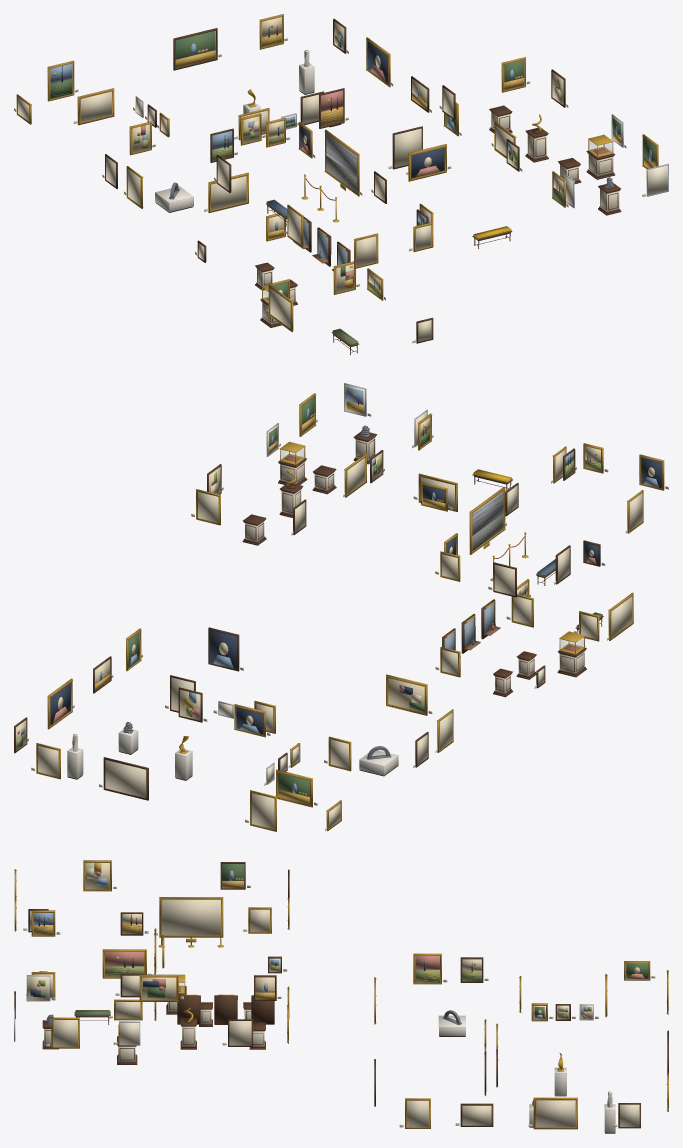
Rendered from Museum_Int_Exhibition_Rooms.fbx.
The picture shows the model from 3 angles, top to bottom: view 1: azimuth 30°, elevation 25°; view 2: azimuth 150°, elevation 25°; view 3: azimuth 270°, elevation 25°; orthographic projection. The views are drawn at different scales.
Visible parts, largest first — view 1: ArtSlot_GalleryV_Featured_GreyField, ArtSlot_GalleryVII_North_2, ArtSlot_GalleryVII_South_W, ArtSlot_GalleryIV_North, ArtSlot_GalleryVII_Mint_N, GalleryVI_Vitrine, GalleryIII_Niches, ArtSlot_GalleryVII_North_1, ArtSlot_GalleryVII_South_E, ArtSlot_GalleryVII_Wall_S3, ArtSlot_GalleryVII_East_3, ArtSlot_GalleryI_West (+16 smaller); view 2: ArtSlot_GalleryV_Featured_GreyField, ArtSlot_GalleryVII_North_2, ArtSlot_GalleryVII_South_W, GalleryIII_Niches, ArtSlot_GalleryVII_South_E, ArtSlot_GalleryVII_Mint_N, GalleryIII_Vitrine, GalleryVI_Vitrine, ArtSlot_GalleryVII_North_1, ArtSlot_GalleryVII_East_3, ArtSlot_GalleryVII_Wall_N1, ArtSlot_GalleryI_West (+11 smaller); view 3: ArtSlot_GalleryV_Featured_GreyField, GalleryIII_Niches, ArtSlot_GalleryVII_East_3, ArtSlot_GalleryI_West, ArtSlot_GalleryVI_West_M, ArtSlot_GalleryVII_West_1, ArtSlot_GalleryVI_East_S, ArtSlot_GalleryV_West_S, ArtSlot_GalleryVII_East_2, ArtSlot_GalleryVII_East_1, ArtSlot_GalleryV_West_N, ArtSlot_GalleryVI_East_N (+14 smaller).
Boxes of the visible parts, left/top/right/bottom form: ArtSlot_GalleryV_Featured_GreyField: left=324, top=129, right=362, bottom=196; ArtSlot_GalleryVII_North_2: left=173, top=28, right=221, bottom=70; ArtSlot_GalleryVII_South_W: left=204, top=172, right=248, bottom=212; ArtSlot_GalleryIV_North: left=408, top=144, right=451, bottom=181; ArtSlot_GalleryVII_Mint_N: left=73, top=88, right=114, bottom=125; GalleryVI_Vitrine: left=586, top=134, right=615, bottom=179; GalleryIII_Niches: left=293, top=216, right=350, bottom=271; ArtSlot_GalleryVII_North_1: left=47, top=60, right=78, bottom=101; ArtSlot_GalleryVII_South_E: left=388, top=126, right=422, bottom=169; ArtSlot_GalleryVII_Wall_S3: left=319, top=88, right=348, bottom=128; ArtSlot_GalleryVII_East_3: left=366, top=37, right=393, bottom=87; ArtSlot_GalleryI_West: left=266, top=284, right=293, bottom=332; ArtSlot_GalleryV_Featured_GreyField: left=469, top=487, right=506, bottom=554; ArtSlot_GalleryVII_North_2: left=99, top=757, right=148, bottom=800; ArtSlot_GalleryVII_South_W: left=386, top=674, right=432, bottom=715; GalleryIII_Niches: left=442, top=599, right=500, bottom=656; ArtSlot_GalleryVII_South_E: left=208, top=627, right=243, bottom=671; ArtSlot_GalleryVII_Mint_N: left=276, top=769, right=317, bottom=807; GalleryIII_Vitrine: left=557, top=631, right=586, bottom=677; GalleryVI_Vitrine: left=278, top=441, right=307, bottom=484; ArtSlot_GalleryVII_North_1: left=245, top=790, right=276, bottom=831; ArtSlot_GalleryVII_East_3: left=47, top=678, right=74, bottom=729; ArtSlot_GalleryVII_Wall_N1: left=234, top=704, right=270, bottom=737; ArtSlot_GalleryI_West: left=607, top=592, right=633, bottom=640; ArtSlot_GalleryV_Featured_GreyField: left=154, top=897, right=223, bottom=937; GalleryIII_Niches: left=177, top=994, right=274, bottom=1024; ArtSlot_GalleryVII_East_3: left=528, top=1097, right=577, bottom=1129; ArtSlot_GalleryI_West: left=102, top=949, right=151, bottom=978; ArtSlot_GalleryVI_West_M: left=139, top=974, right=183, bottom=1001; ArtSlot_GalleryVII_West_1: left=413, top=953, right=447, bottom=984; ArtSlot_GalleryVI_East_S: left=46, top=1017, right=79, bottom=1048; ArtSlot_GalleryV_West_S: left=83, top=860, right=116, bottom=891; ArtSlot_GalleryVII_East_2: left=455, top=1103, right=493, bottom=1126; ArtSlot_GalleryVII_East_1: left=399, top=1098, right=430, bottom=1128; ArtSlot_GalleryV_West_N: left=220, top=862, right=250, bottom=889; ArtSlot_GalleryVI_East_N: left=222, top=1019, right=252, bottom=1046.
Bounding box in the file's own units: 15.19 × 6.65 × 26.59.
